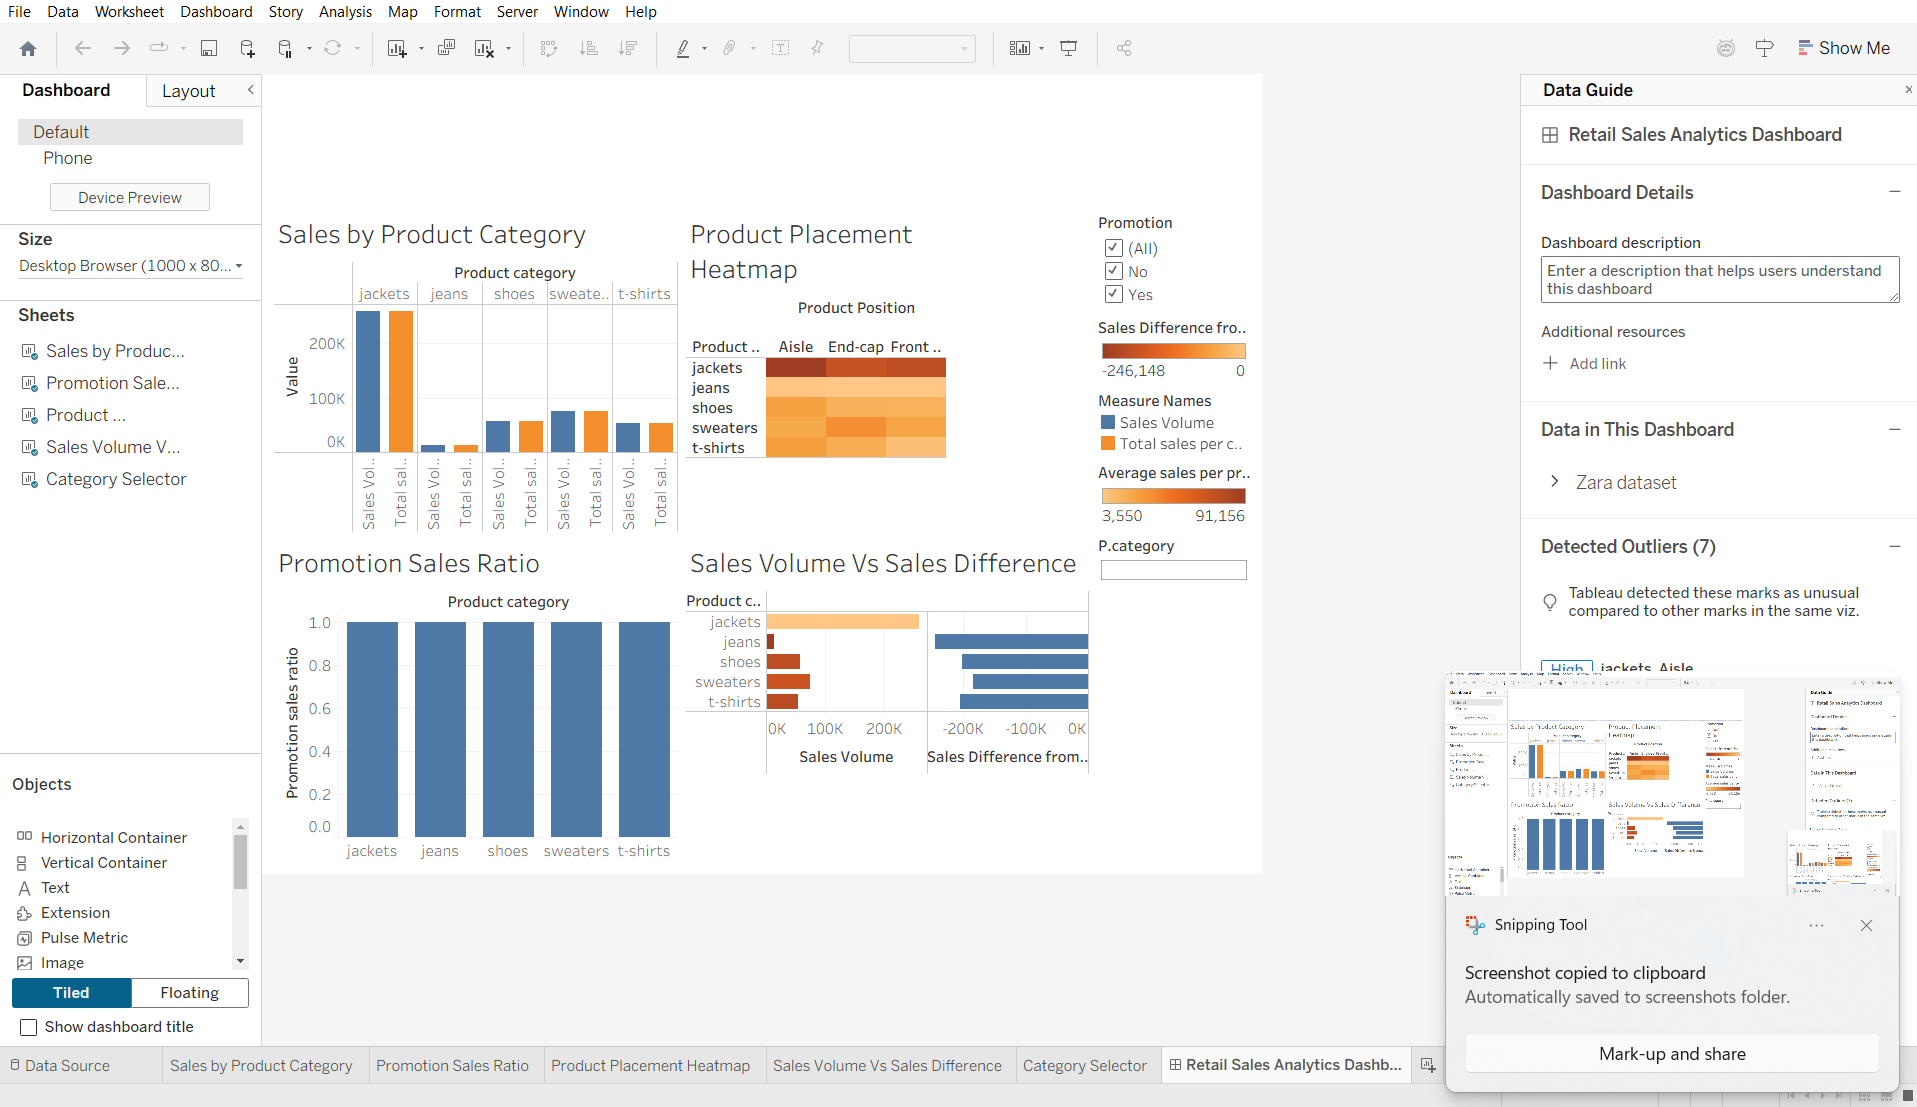

The page's visual inventory and layout, read from the dashboard file:
{"tool":"tableau","page":{"name":"Retail Sales Analytics Dashboard","canvas":[1000,800],"ordinal":0},"visuals":[{"type":"worksheet","title":"Category Selector","mark":"Automatic","box":[8,8,984,126]},{"type":"worksheet","title":"Sales by Product Category","mark":"Automatic","cols":["Product category"],"box":[8,134,412,329]},{"type":"worksheet","title":"Product Placement Heatmap","mark":"Automatic","rows":["Product category"],"cols":["Product Position"],"box":[420,134,412,329]},{"type":"filter","title":"Promotion Sales Ratio","param":"[federated.09htech0tjqb1d19x5cxx1mtnz1d].[none:Promotion:nk]","box":[832,134,160,105]},{"type":"legend","title":"Sales Volume Vs Sales Difference","param":"[federated.09htech0tjqb1d19x5cxx1mtnz1d].[usr:Calculation_3242189965176845:qk]","box":[832,239,160,73]},{"type":"legend","title":"Sales by Product Category","param":"[federated.09htech0tjqb1d19x5cxx1mtnz1d].[:Measure Names]","box":[832,312,160,72]},{"type":"legend","title":"Product Placement Heatmap","param":"[federated.09htech0tjqb1d19x5cxx1mtnz1d].[sum:Calculation_3242189952978947:qk]","box":[832,384,160,73]},{"type":"parameter","param":"[Parameters].[Parameter 1]","box":[832,457,160,56]},{"type":"worksheet","title":"Promotion Sales Ratio","mark":"Automatic","rows":["Calculation_3242189947854850"],"cols":["Product category"],"box":[8,463,412,329]},{"type":"worksheet","title":"Sales Volume Vs Sales Difference","mark":"Automatic","rows":["Product category"],"cols":["Sales Volume","Calculation_3242189965176845"],"box":[420,463,412,329]}]}

Visuals, with their boxes on the page's 1000x800 design canvas (x1, y1, x2, y2). These are canvas units, not pixel positions in the 1917x1107 screenshot, which may show the page scaled, cropped or inside an application window:
"Category Selector" worksheet: [8,8,992,134]
"Sales by Product Category" worksheet: [8,134,420,463]
"Product Placement Heatmap" worksheet: [420,134,832,463]
"Promotion Sales Ratio" filter: [832,134,992,239]
"Sales Volume Vs Sales Difference" legend: [832,239,992,312]
"Sales by Product Category" legend: [832,312,992,384]
"Product Placement Heatmap" legend: [832,384,992,457]
parameter: [832,457,992,513]
"Promotion Sales Ratio" worksheet: [8,463,420,792]
"Sales Volume Vs Sales Difference" worksheet: [420,463,832,792]
